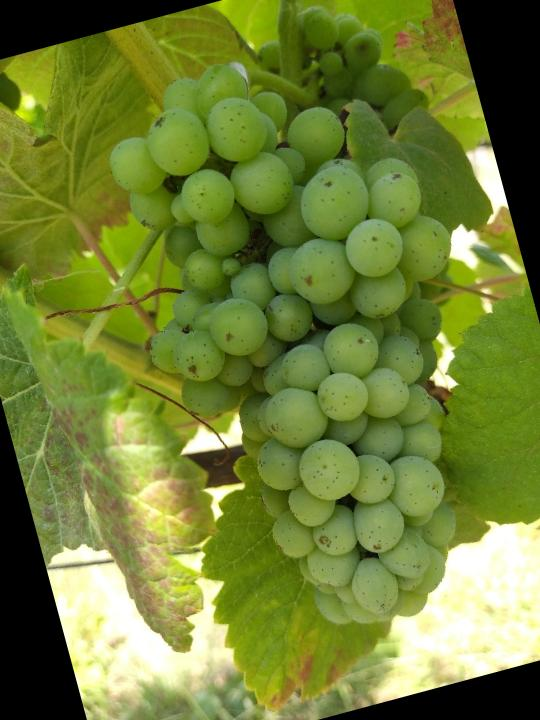grape: (75, 14, 540, 670)
